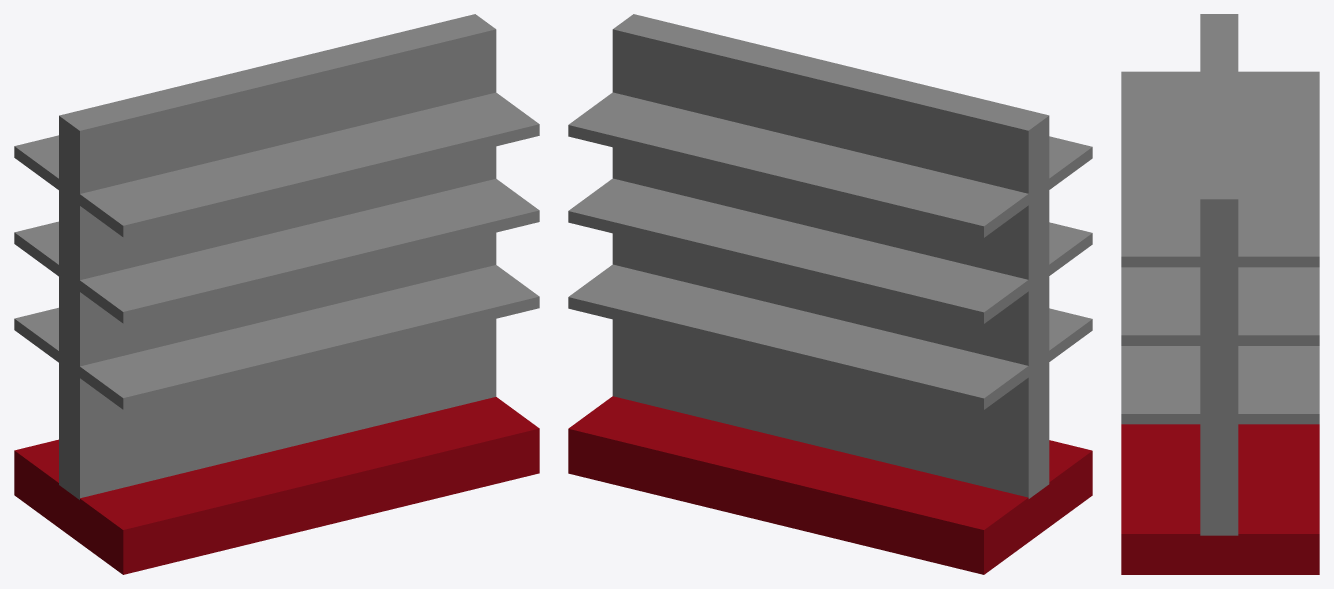
File: Shels.fbx
3 renders of one model, left to right at view 1: azimuth 30°, elevation 25°; view 2: azimuth 150°, elevation 25°; view 3: azimuth 270°, elevation 25°, orthographic. The views are drawn at different scales.
Visible parts, largest first — view 1: Cube; view 2: Cube; view 3: Cube.
Part boxes in pixels (x1,y1,x2,y2): Cube: [14, 14, 539, 574]; Cube: [568, 14, 1092, 574]; Cube: [1121, 14, 1319, 574].
Size of the model in its own units: 239 by 253 by 114.
